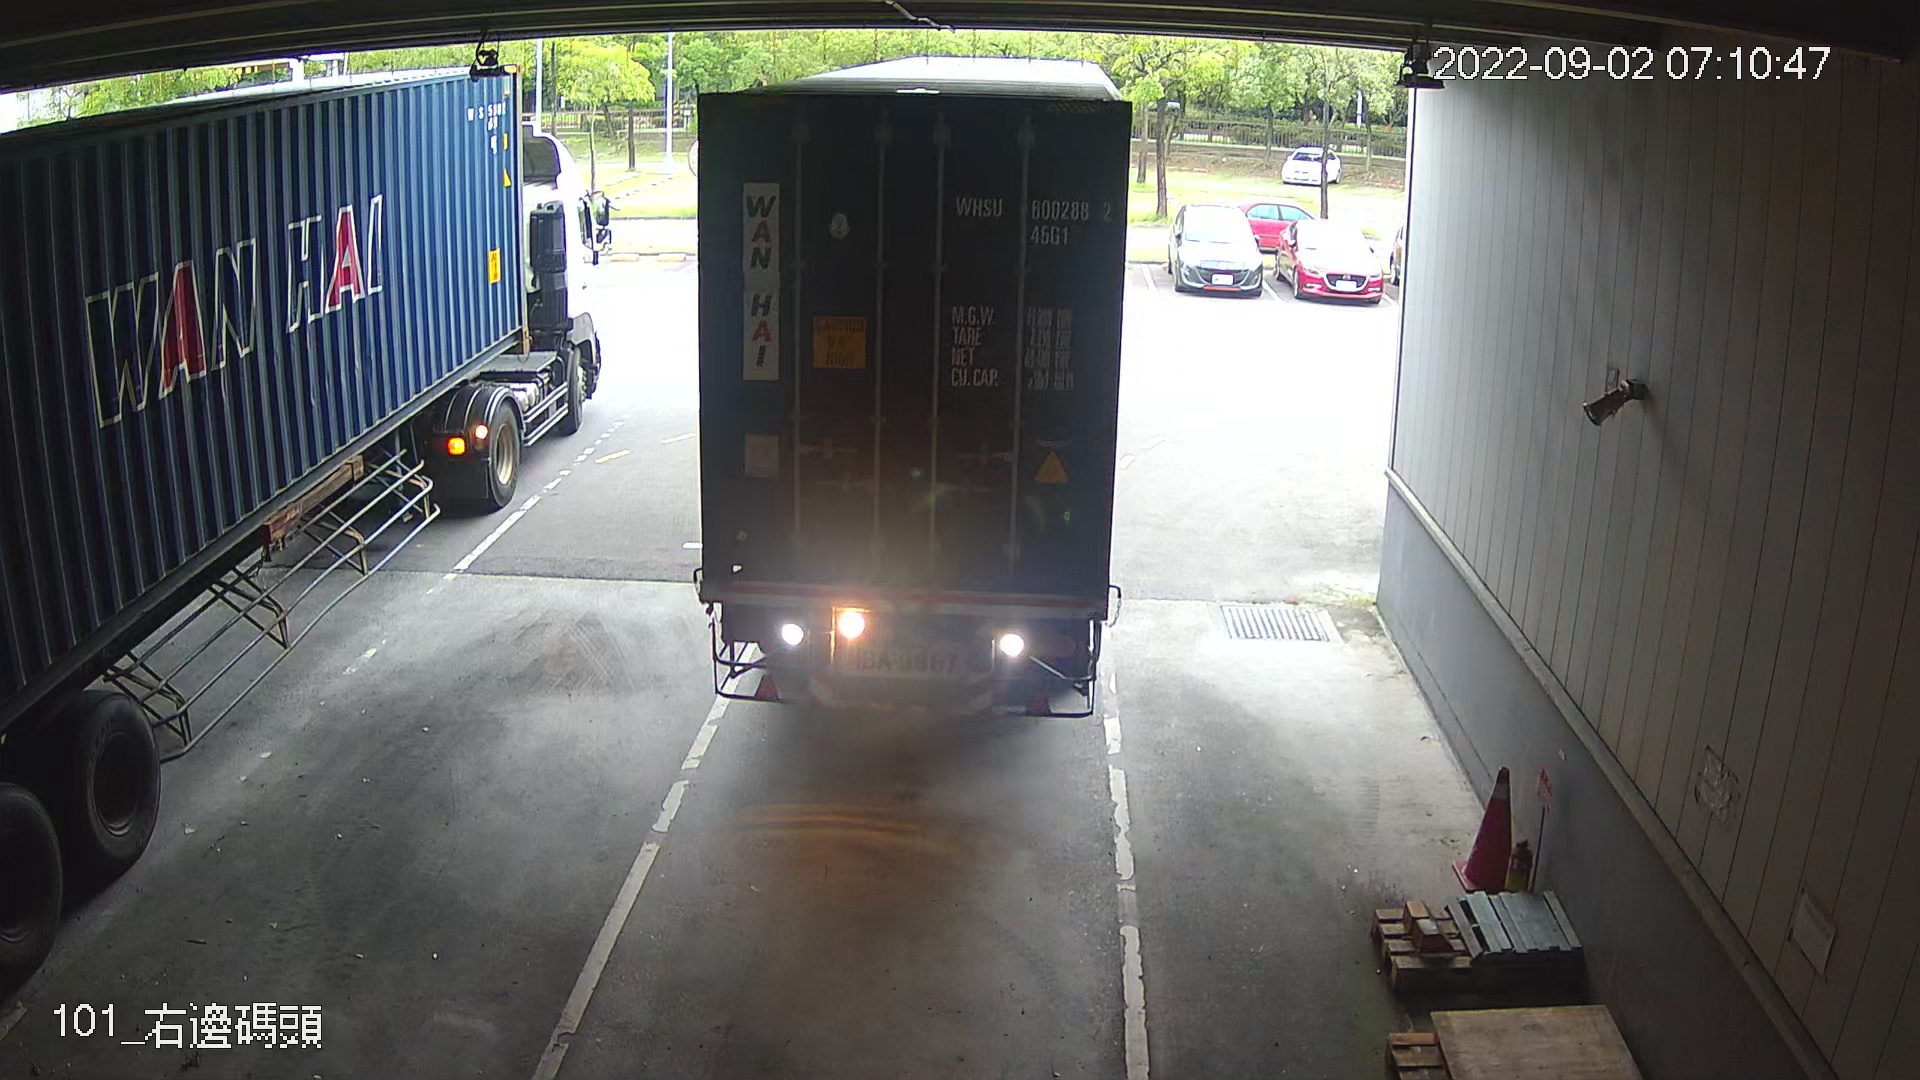container: (944, 182, 1122, 258)
